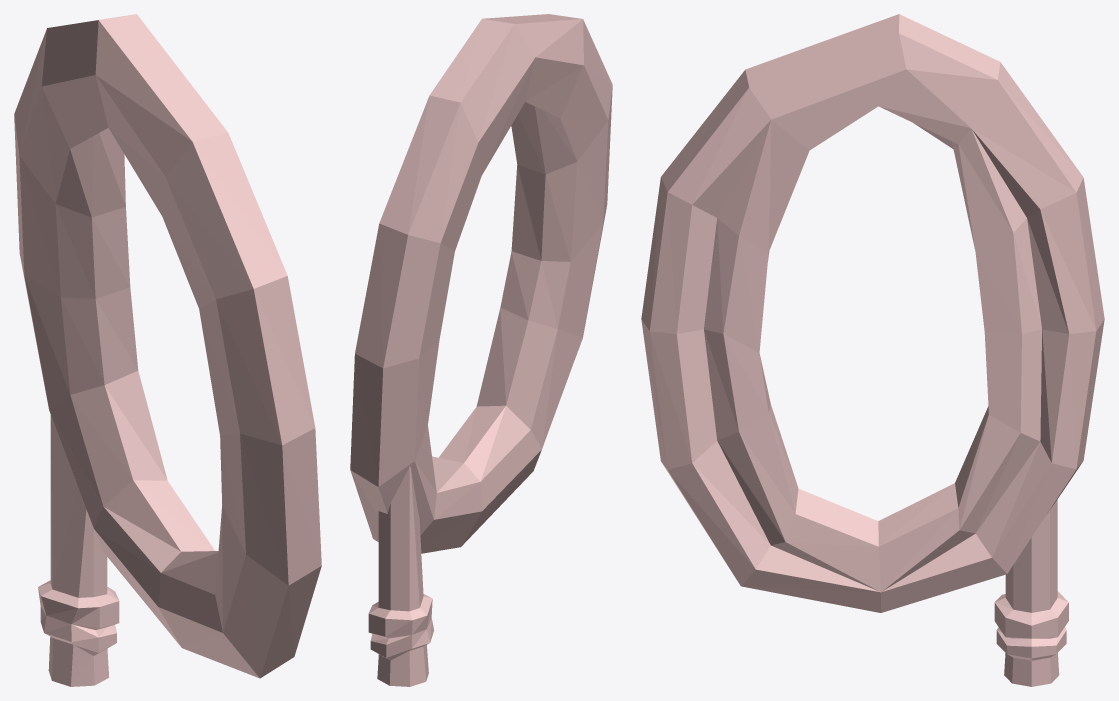
Rendered from SM_Item_Rope_Attachment_01.glb.
The picture shows the model from 3 angles, left to right: view 1: azimuth 30°, elevation 25°; view 2: azimuth 150°, elevation 25°; view 3: azimuth 270°, elevation 25°; orthographic projection. The views are drawn at different scales.
Parts seen in each view (by area): view 1: SM_Item_Rope_Attachment_01_00; view 2: SM_Item_Rope_Attachment_01_00; view 3: SM_Item_Rope_Attachment_01_00.
Boxes of the visible parts, x1,y1,x2,y2 form: SM_Item_Rope_Attachment_01_00: (14,14,321,686); SM_Item_Rope_Attachment_01_00: (350,14,612,686); SM_Item_Rope_Attachment_01_00: (641,14,1104,686).
Bounding box in the file's own units: 0.0641 × 0.3412 × 0.2248.
Materials: 1 (1 with a texture image).
